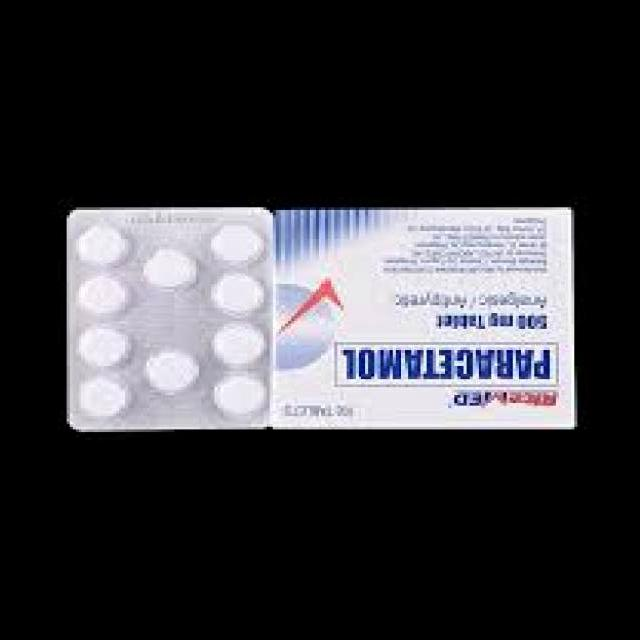authentic: (56, 196, 586, 440)
